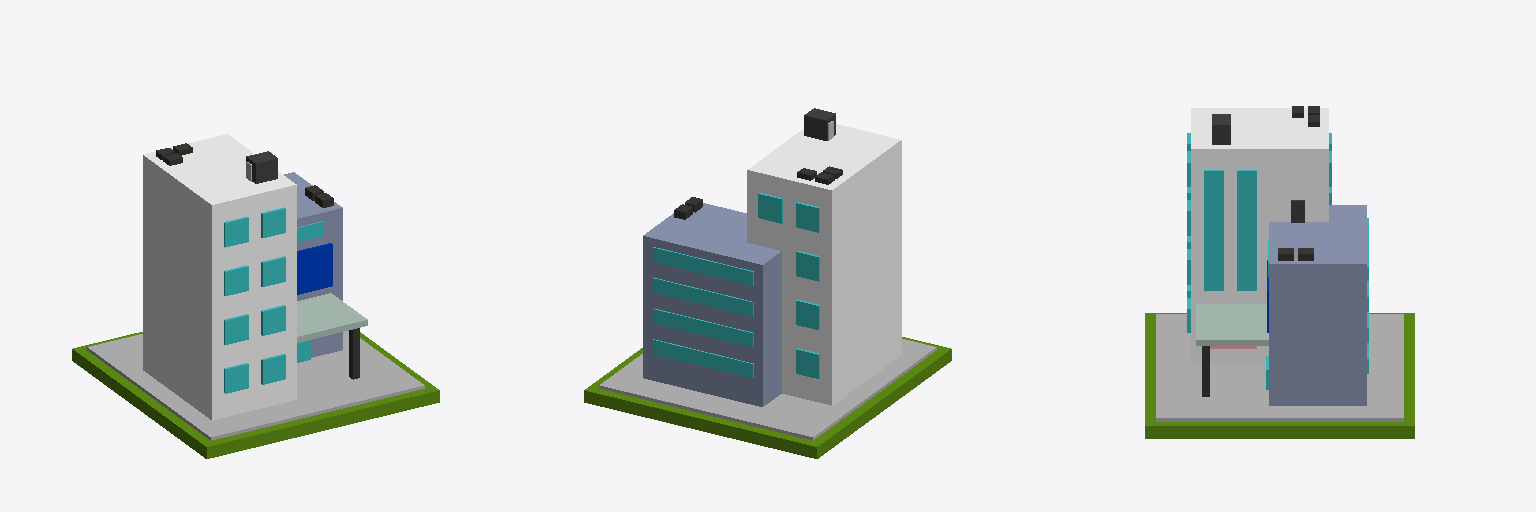
3 views of the same model, side by side, from view 1: azimuth 30°, elevation 25°; view 2: azimuth 150°, elevation 25°; view 3: azimuth 270°, elevation 25° (orthographic).
Parts seen in each view (by area): view 1: Building_1_No_Name_0, Ground_Foundation_blue_5_0, Cube_GrassHouse_0, Building_2_mat_030_0, Platform_mat_015_0, Screen_2_blue_0, Service_mat_031_0, Window__2__mat_020_0, Window__1__mat_020_0, Window__5__mat_020_0, Window__6__mat_020_0, Window__7__mat_020_0 (+4 smaller); view 2: Building_1_No_Name_0, Building_2_mat_030_0, Ground_Foundation_blue_5_0, Cube_GrassHouse_0, Window__12__mat_020_0, Window__10__1_mat_020_0, Window__11__1_mat_020_0, Window__13__mat_020_0, Service_mat_031_0, Window__8__1_mat_020_0, Window__1__1_mat_020_0, Window__4__1_mat_020_0 (+2 smaller); view 3: Building_2_mat_030_0, Building_1_No_Name_0, Ground_Foundation_blue_5_0, Cube_GrassHouse_0, Platform_mat_015_0, Window__10__mat_020_0, Window__11__mat_020_0, Service_mat_031_0.
Boxes of the visible parts, x1,y1,x2,y2 form: Building_1_No_Name_0: [143, 134, 296, 419]; Ground_Foundation_blue_5_0: [87, 331, 424, 440]; Cube_GrassHouse_0: [72, 332, 439, 458]; Building_2_mat_030_0: [284, 172, 342, 357]; Platform_mat_015_0: [297, 293, 367, 342]; Screen_2_blue_0: [297, 243, 332, 294]; Service_mat_031_0: [246, 151, 277, 183]; Window__2__mat_020_0: [224, 314, 248, 344]; Window__1__mat_020_0: [224, 363, 248, 393]; Window__5__mat_020_0: [261, 354, 285, 384]; Window__6__mat_020_0: [261, 305, 285, 335]; Window__7__mat_020_0: [261, 256, 285, 286]; Building_1_No_Name_0: [747, 124, 901, 405]; Building_2_mat_030_0: [643, 203, 781, 406]; Ground_Foundation_blue_5_0: [599, 339, 936, 440]; Cube_GrassHouse_0: [584, 337, 951, 458]; Window__12__mat_020_0: [653, 308, 753, 347]; Window__10__1_mat_020_0: [653, 247, 753, 285]; Window__11__1_mat_020_0: [653, 277, 753, 316]; Window__13__mat_020_0: [653, 339, 753, 378]; Service_mat_031_0: [804, 108, 835, 140]; Window__8__1_mat_020_0: [758, 193, 782, 223]; Window__1__1_mat_020_0: [796, 348, 819, 378]; Window__4__1_mat_020_0: [796, 202, 819, 232]; Building_2_mat_030_0: [1269, 205, 1366, 405]; Building_1_No_Name_0: [1191, 108, 1328, 363]; Ground_Foundation_blue_5_0: [1156, 314, 1403, 421]; Cube_GrassHouse_0: [1145, 313, 1414, 438]; Platform_mat_015_0: [1196, 304, 1268, 345]; Window__10__mat_020_0: [1204, 170, 1223, 290]; Window__11__mat_020_0: [1237, 170, 1256, 290]; Service_mat_031_0: [1212, 114, 1230, 144].
Size of the model in its own units: 1 by 1.03 by 1.